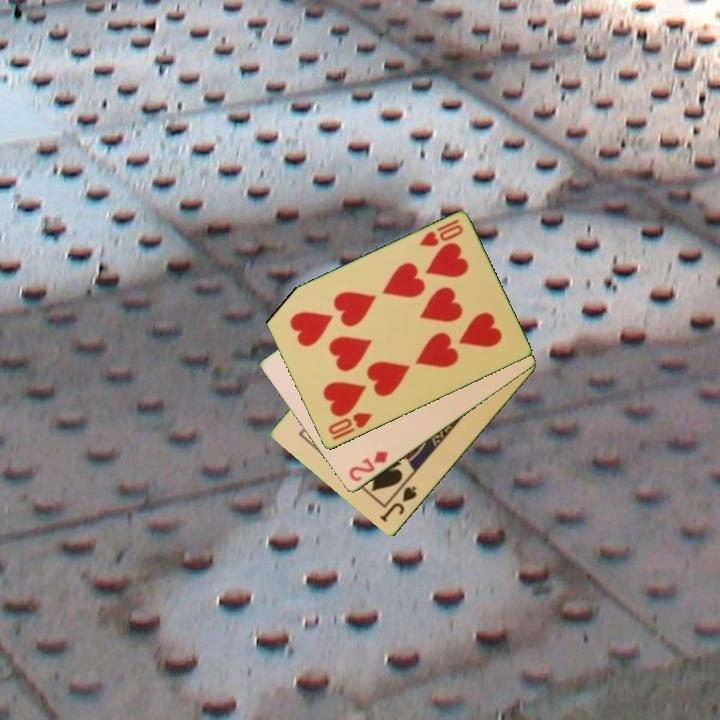10h: (415, 216, 466, 250), (324, 409, 375, 438)
2d: (345, 448, 391, 485)
Js: (376, 482, 420, 526)
